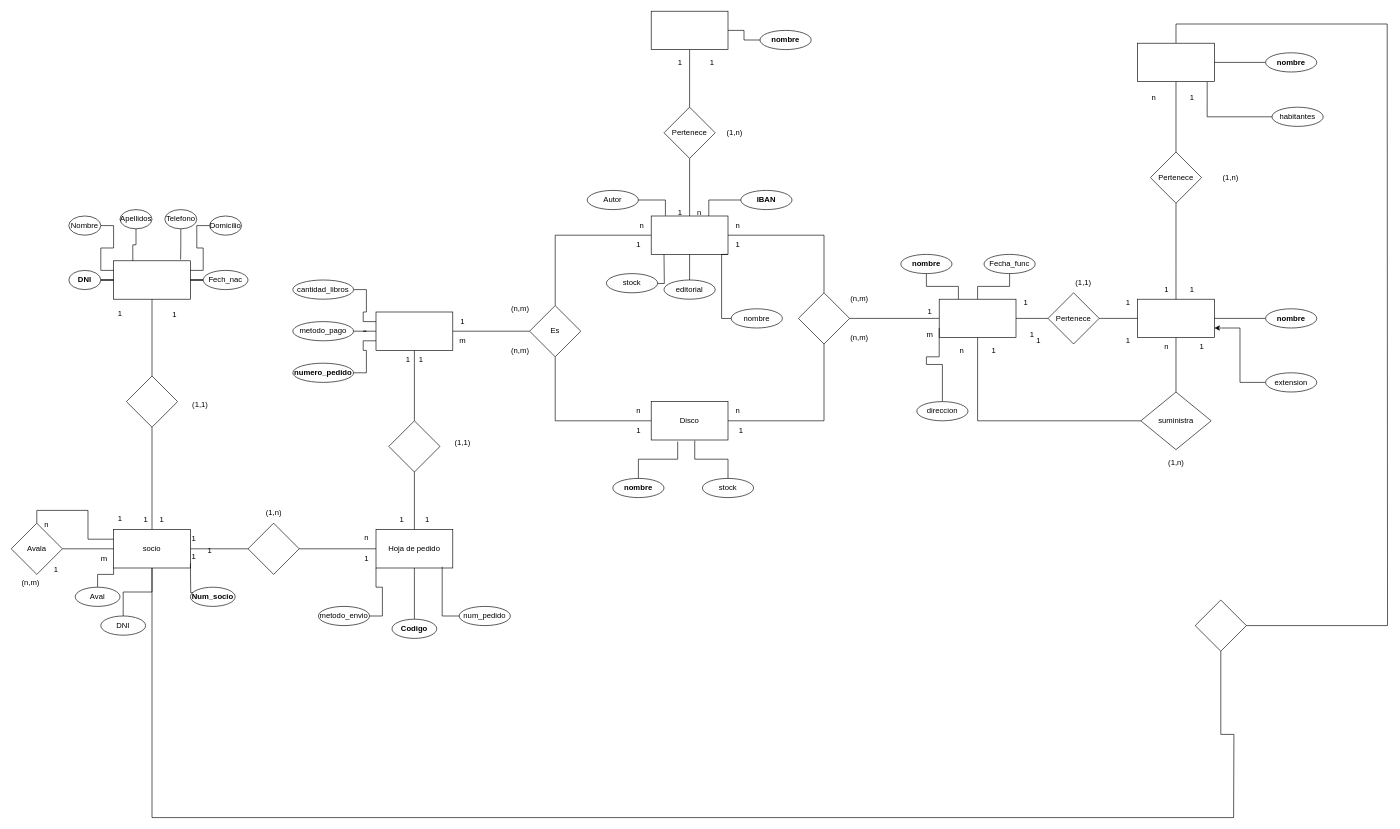
The diagram is 1400 pixels wide and 829 high, and some of its shapes have lost their labels. Each missing label, with the centre of its shape:
"Almacen" belongs at (977,318).
"Cliente" belongs at (151,279).
"Coleccion" belongs at (689,30).
"Envia" belongs at (273,548).
"Genera" belongs at (414,446).
"LIbro" belongs at (689,234).
"Pedido" belongs at (414,330).
"Poblacion" belongs at (1175,62).
"Provincia" belongs at (1175,318).
"se hace" belongs at (152,401).
"Tiene" belongs at (824,318).
"vive" belongs at (1220,625).
